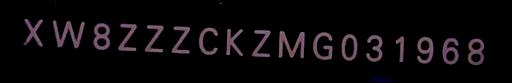letter: (50, 17, 88, 50), (275, 27, 307, 62), (310, 27, 336, 64), (114, 21, 142, 52), (248, 26, 274, 59), (19, 15, 45, 46), (140, 22, 166, 53), (167, 24, 193, 55), (338, 29, 360, 64), (90, 20, 114, 51), (222, 26, 246, 57), (414, 34, 436, 67), (198, 26, 220, 57), (439, 34, 461, 65), (363, 33, 385, 62), (464, 37, 486, 66), (392, 35, 406, 64)
